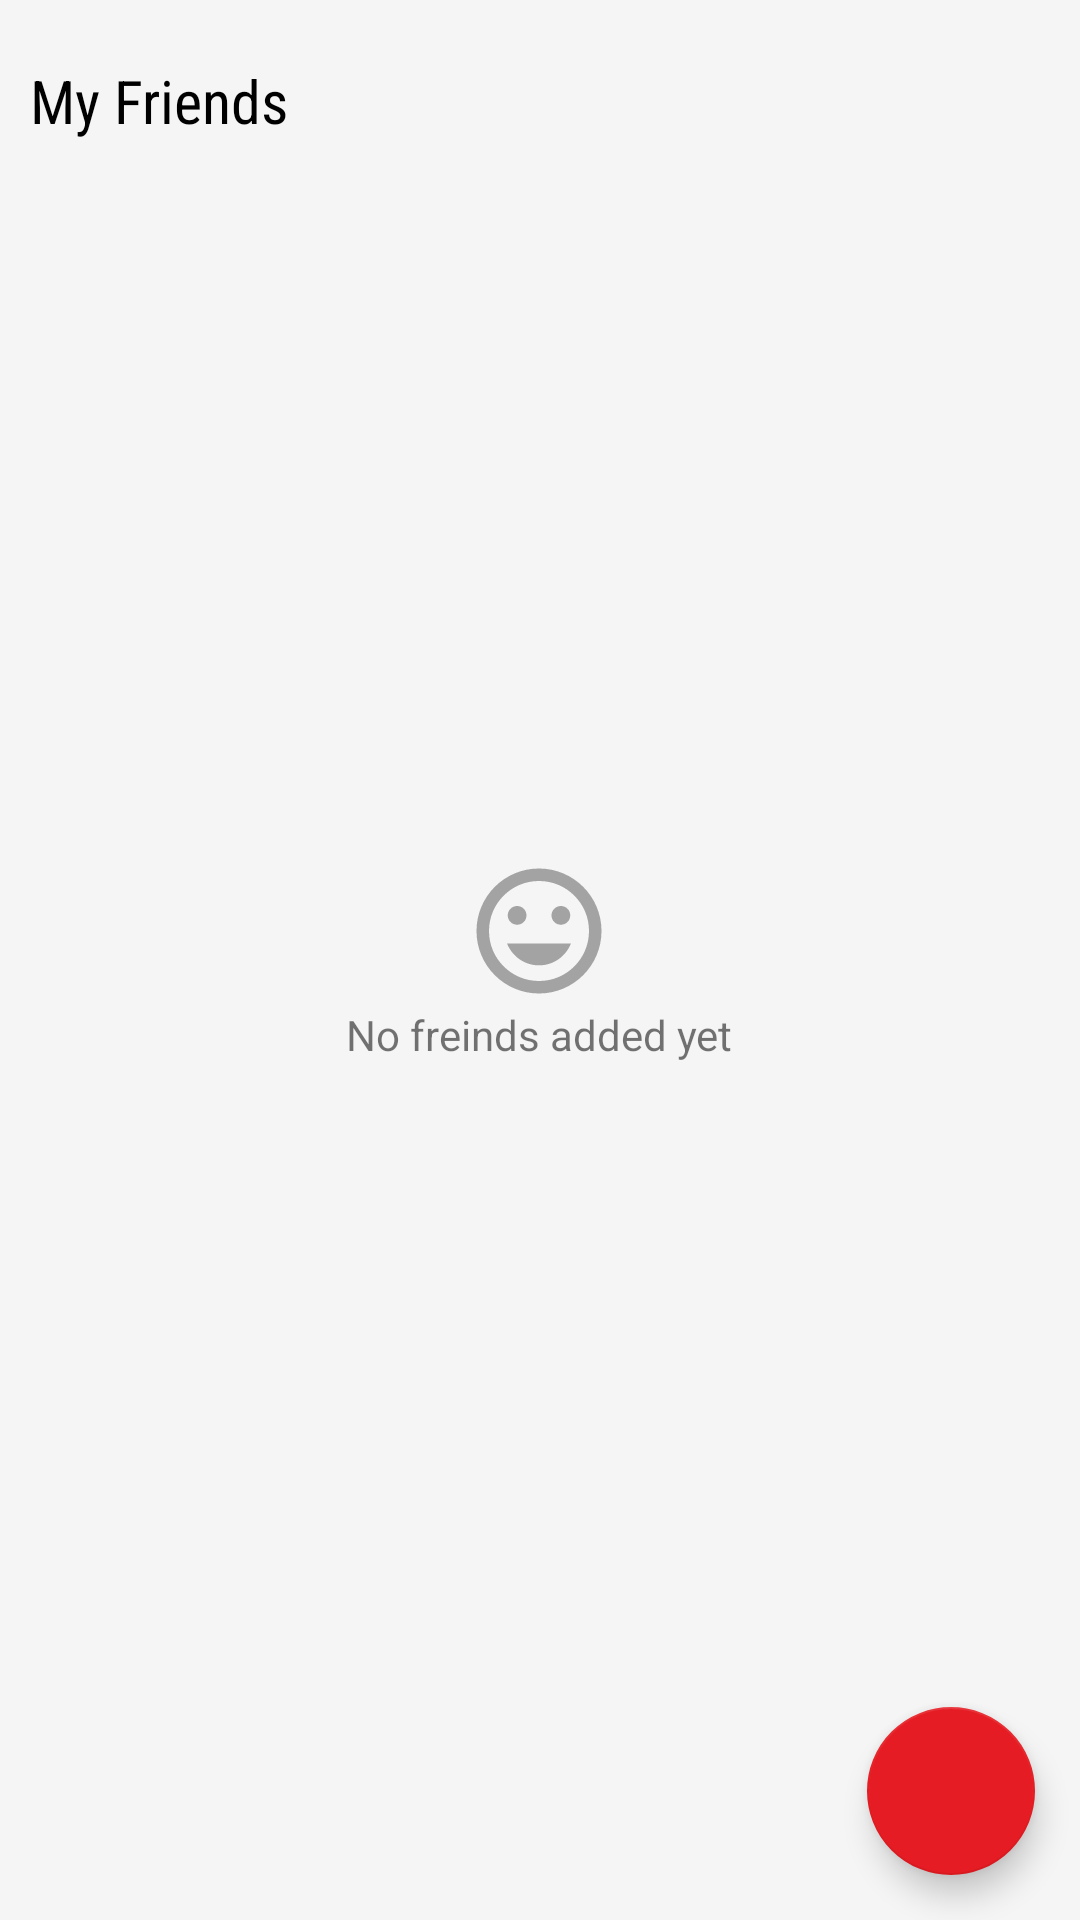

Screen size 1080*1920. Icon name, then its center in pixels as (x=x, y=y):
mood: (x=539, y=931)
